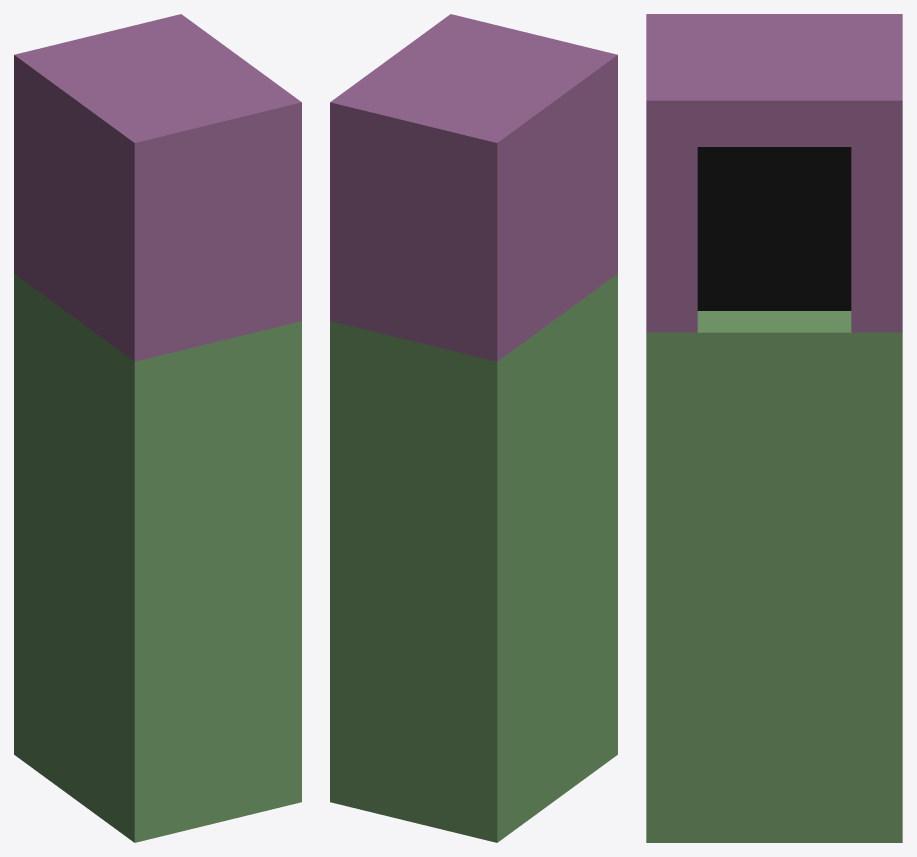
The model's file is GGJ zombie zombie arm.obj.
The picture shows the model from 3 angles, left to right: view 1: azimuth 30°, elevation 25°; view 2: azimuth 150°, elevation 25°; view 3: azimuth 270°, elevation 25°; orthographic projection. The views are drawn at different scales.
Bounding box in the file's own units: 0.4 × 1.6 × 0.5.
1 material, 1 textured.
